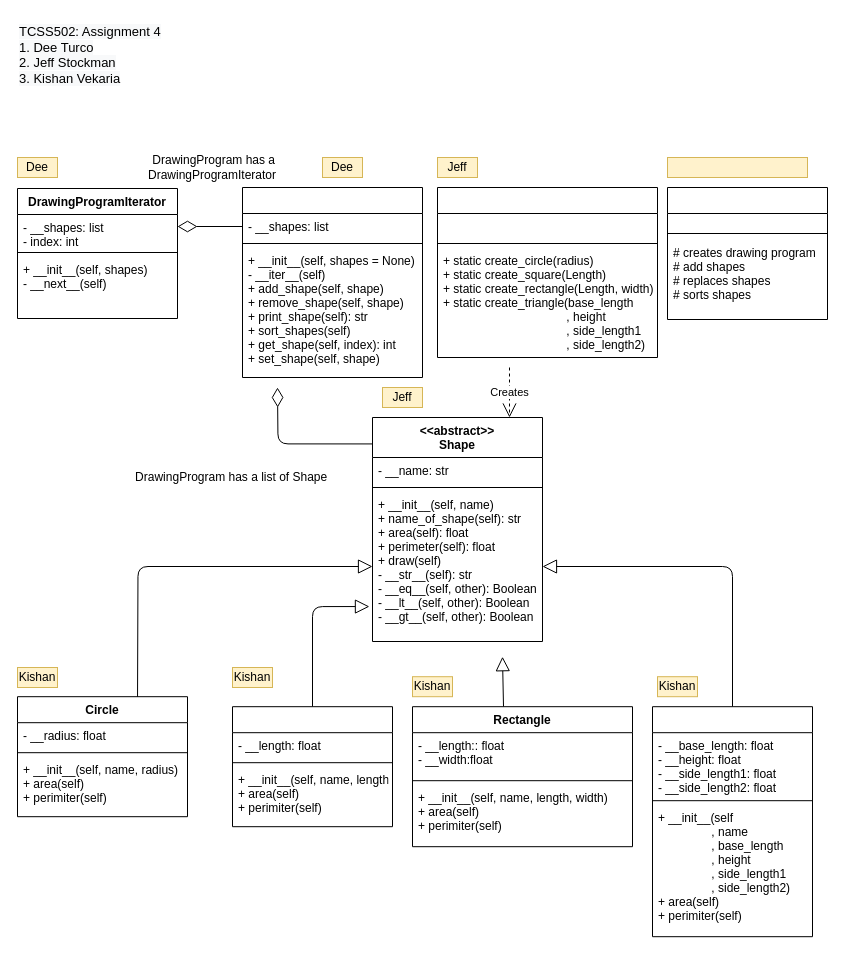
Image size: 845x957. Some labels were removed from this diagram. The shapes that lost their labels are listed below. From the top down, each one's box as (x1, y1, x2, y2) in pixels, then its label:
(666, 156, 808, 178): Dee, Jeff, Kishan
(436, 186, 658, 358): ShapeFactory
(666, 186, 828, 320): DrawingProgramMain
(242, 186, 422, 378): DrawingProgram
(232, 706, 392, 827): Square
(652, 706, 812, 937): Triangle
